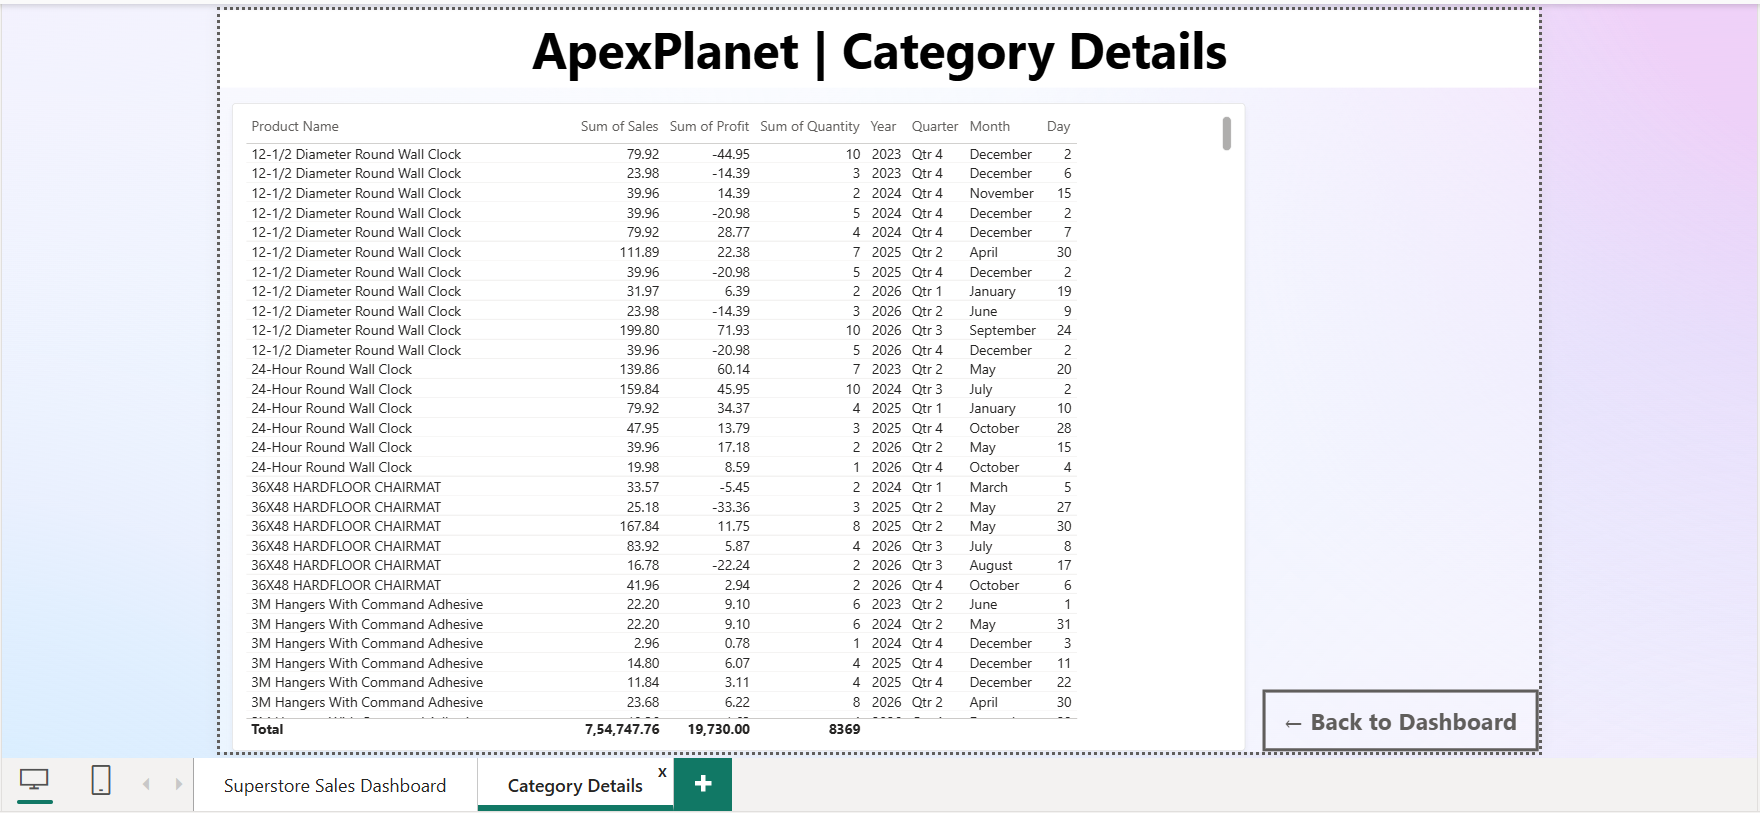

This screenshot's page, from the dashboard's own definition file:
{"tool":"powerbi","page":{"name":"Category Details","canvas":[1280,720],"ordinal":1},"visuals":[{"type":"tableEx","fields":{"Values":["cleaned_superstore.Product Name","Sum(cleaned_superstore.Sales)","Sum(cleaned_superstore.Profit)","Sum(cleaned_superstore.Quantity)","cleaned_superstore.Order Date.Variation.Date Hierarchy.Year","cleaned_superstore.Order Date.Variation.Date Hierarchy.Quarter","cleaned_superstore.Order Date.Variation.Date Hierarchy.Month","cleaned_superstore.Order Date.Variation.Date Hierarchy.Day"]},"box":[11.9,89.8,983.1,628.8],"z":0},{"type":"actionButton","box":[0,0,100,40],"z":1000},{"type":"actionButton","box":[1012,660,268,60],"z":2000},{"type":"textbox","box":[0,0,1280,75],"z":3000}]}

Visuals, with their boxes on the page's 1280x720 design canvas (x1, y1, x2, y2). These are canvas units, not pixel positions in the 1760x813 screenshot, which may show the page scaled, cropped or inside an application window:
tableEx - cleaned_superstore.Product Name x Sum(cleaned_superstore.Sales): box=[12, 90, 995, 719]
actionButton: box=[0, 0, 100, 40]
actionButton: box=[1012, 660, 1280, 720]
textbox: box=[0, 0, 1280, 75]
